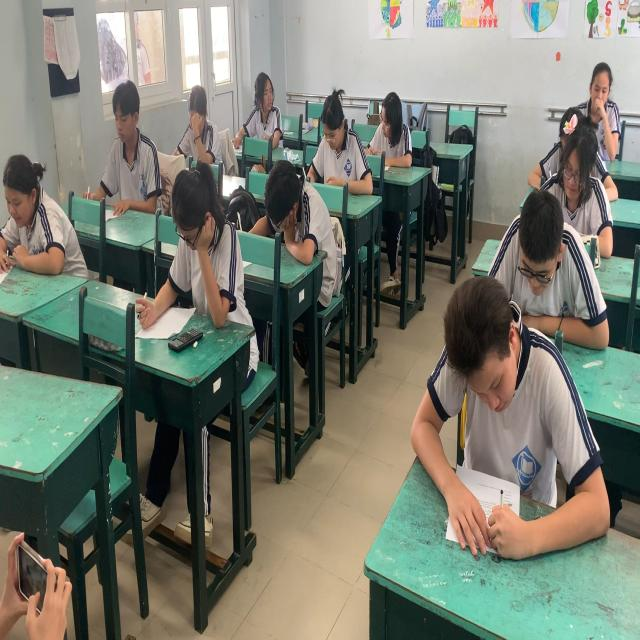cheating: (241, 64, 294, 157)
not_cheating: (407, 288, 568, 555), (0, 123, 92, 300), (154, 175, 249, 333), (502, 178, 586, 326), (100, 92, 171, 222), (261, 143, 329, 257), (321, 84, 370, 195), (576, 47, 621, 153), (548, 120, 601, 206), (374, 63, 410, 171), (179, 85, 214, 160)
